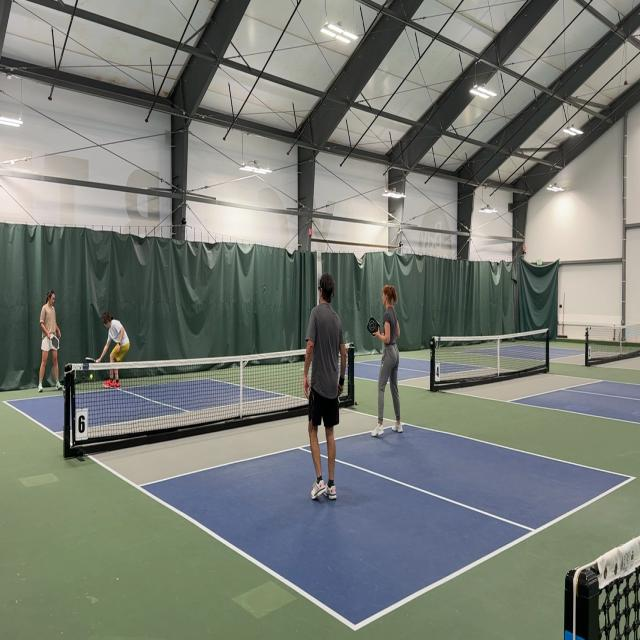ball: (89, 374, 93, 381)
